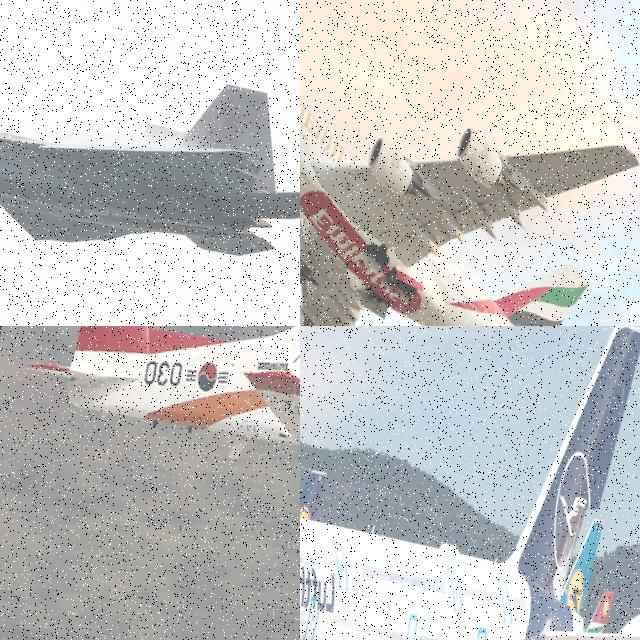A380: (300, 326, 640, 640), (300, 53, 640, 326)
F22: (0, 22, 300, 278)
KT-1: (24, 326, 300, 504)
